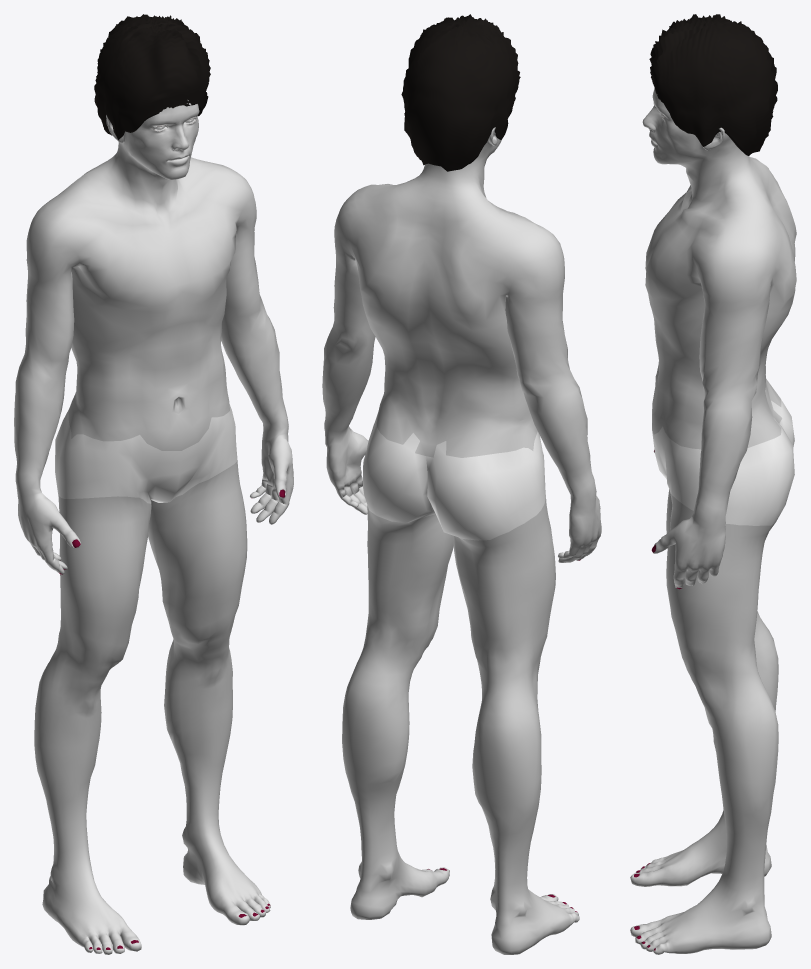
Rendered from avatar_male_1.glb.
3 views of the same model, side by side, from view 1: azimuth 30°, elevation 25°; view 2: azimuth 150°, elevation 25°; view 3: azimuth 270°, elevation 25° (orthographic).
Visible parts, largest first — view 1: m_ca01; view 2: m_ca01; view 3: m_ca01.
Boxes of the visible parts, bbox=[...] form: m_ca01: bbox=[14, 14, 293, 954]; m_ca01: bbox=[322, 14, 601, 954]; m_ca01: bbox=[630, 14, 796, 954].
Size of the model in its own units: 0.5816 by 1.86 by 0.3143.
11 materials, 1 textured.
